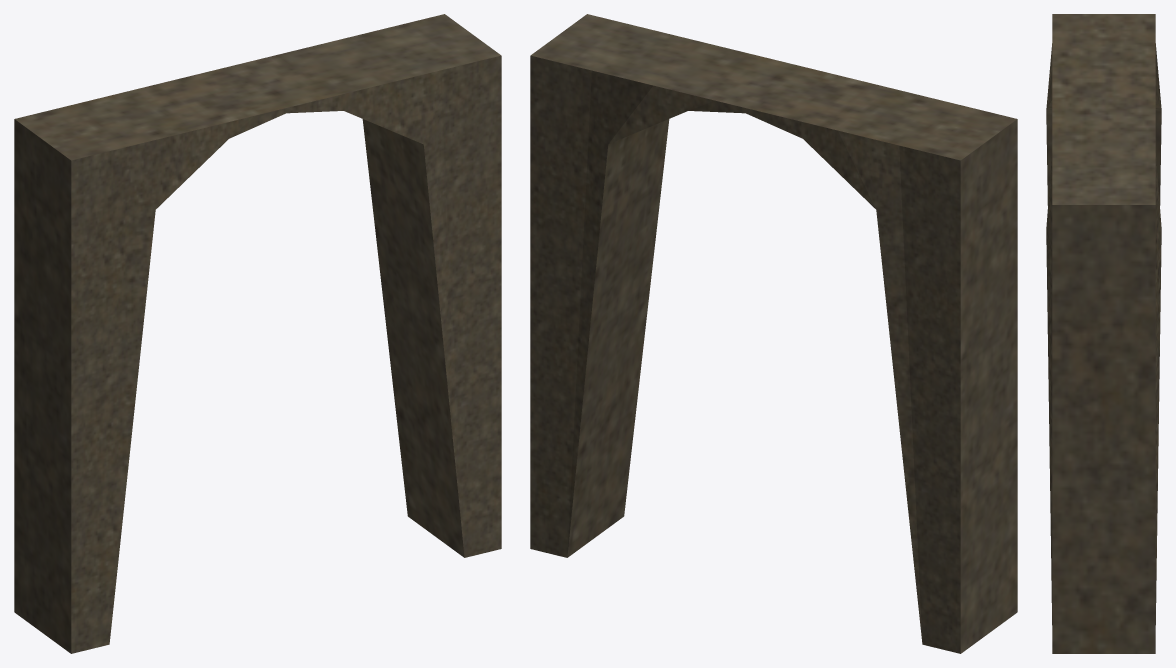
Rendered from WallArchway.fbx.
3 renders of one model, left to right at view 1: azimuth 30°, elevation 25°; view 2: azimuth 150°, elevation 25°; view 3: azimuth 270°, elevation 25°, orthographic. The views are drawn at different scales.
Parts seen in each view (by area): view 1: Arch; view 2: Arch; view 3: Arch.
Part boxes in pixels (x1,y1,x2,y2): Arch: (14, 14, 501, 653); Arch: (530, 14, 1017, 653); Arch: (1046, 14, 1161, 653).
Size of the model in its own units: 875 by 959 by 224.
